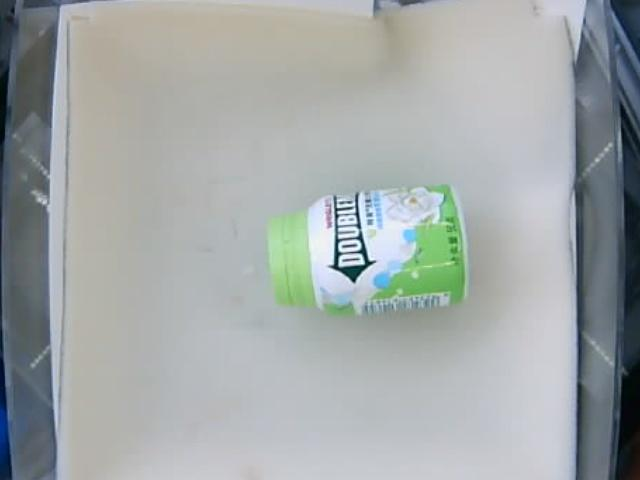Bottle: (267, 184, 470, 316)
